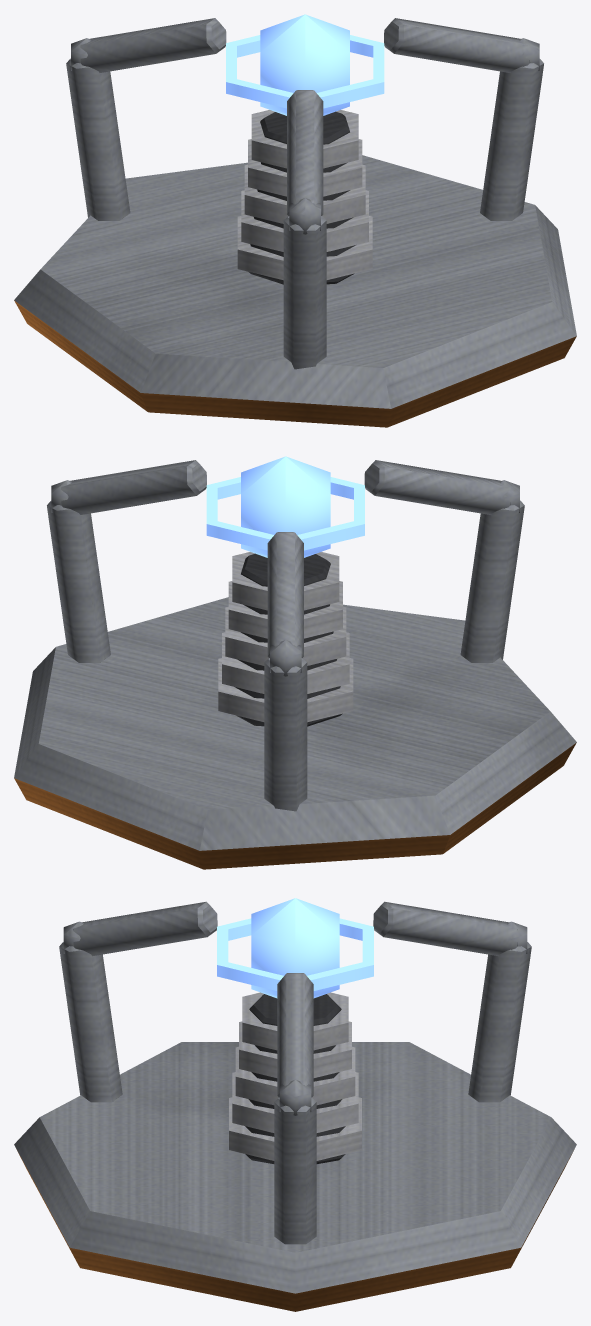
The model's file is R4D_EMPTrap_LOD1.glb.
3 renders of one model, top to bottom at view 1: azimuth 30°, elevation 25°; view 2: azimuth 150°, elevation 25°; view 3: azimuth 270°, elevation 25°, orthographic.
Visible parts, largest first — view 1: R4D_EMPTrap_LOD1; view 2: R4D_EMPTrap_LOD1; view 3: R4D_EMPTrap_LOD1.
Boxes of the visible parts, <box> form: R4D_EMPTrap_LOD1: <box>14,14,576,427</box>; R4D_EMPTrap_LOD1: <box>14,456,576,869</box>; R4D_EMPTrap_LOD1: <box>14,898,576,1311</box>.
Size of the model in its own units: 0.4182 by 0.25 by 0.429.
5 materials, 4 textured.
